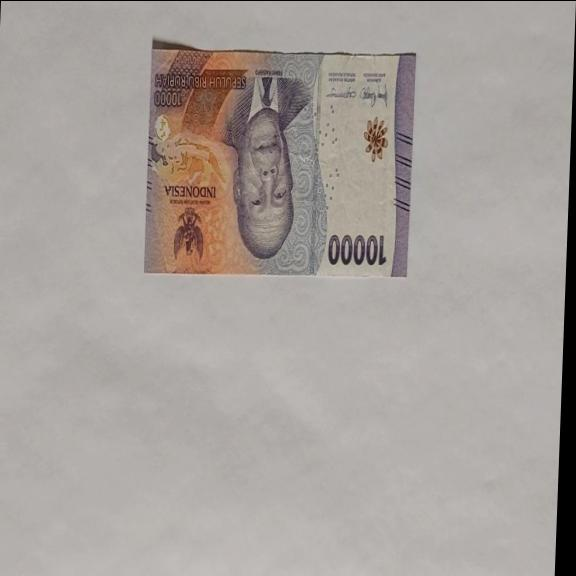Kertas: (141, 46, 416, 280), (326, 232, 387, 268)
